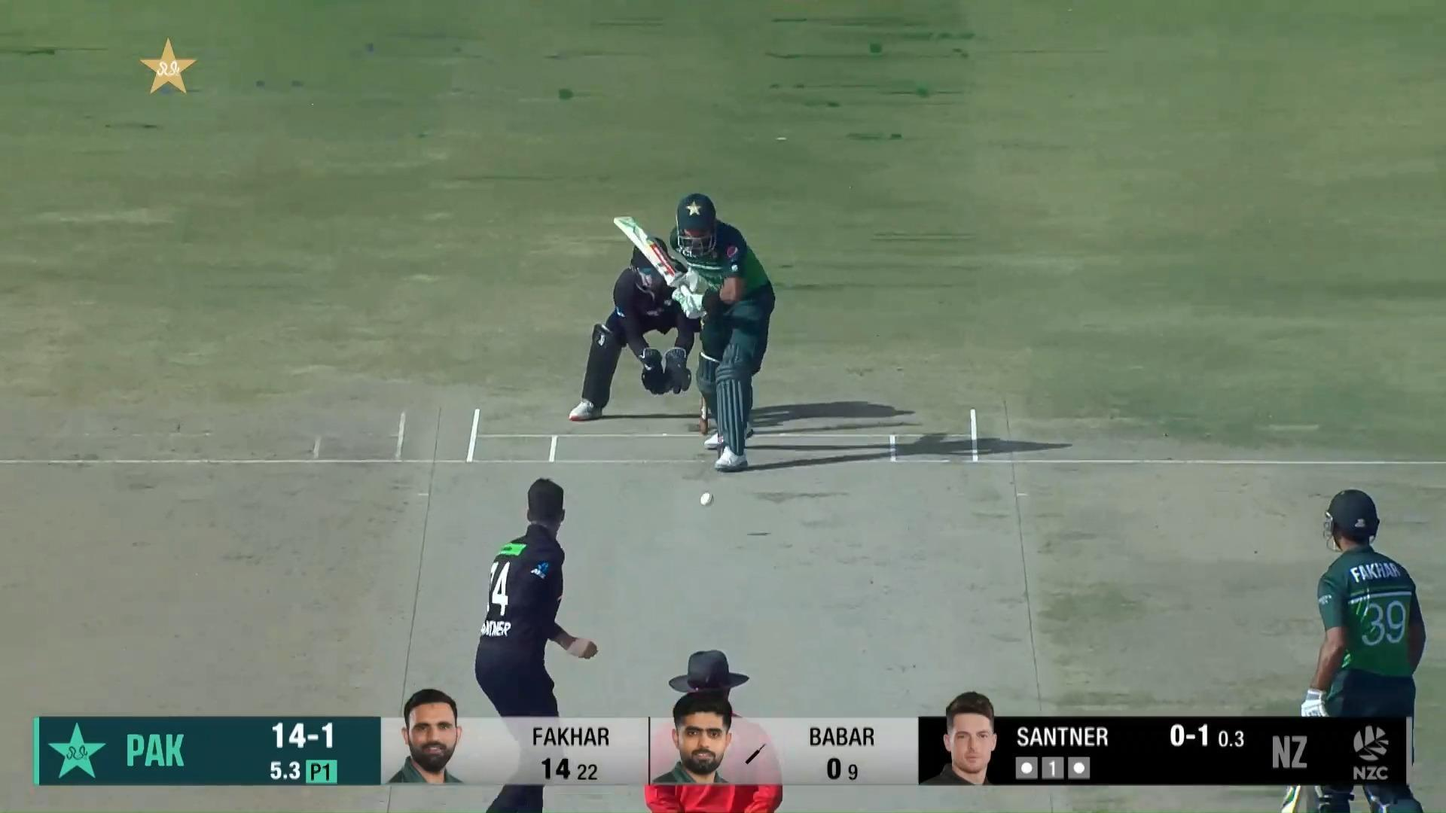BM 1: (611, 192, 777, 472)
BO: (474, 476, 599, 717)
